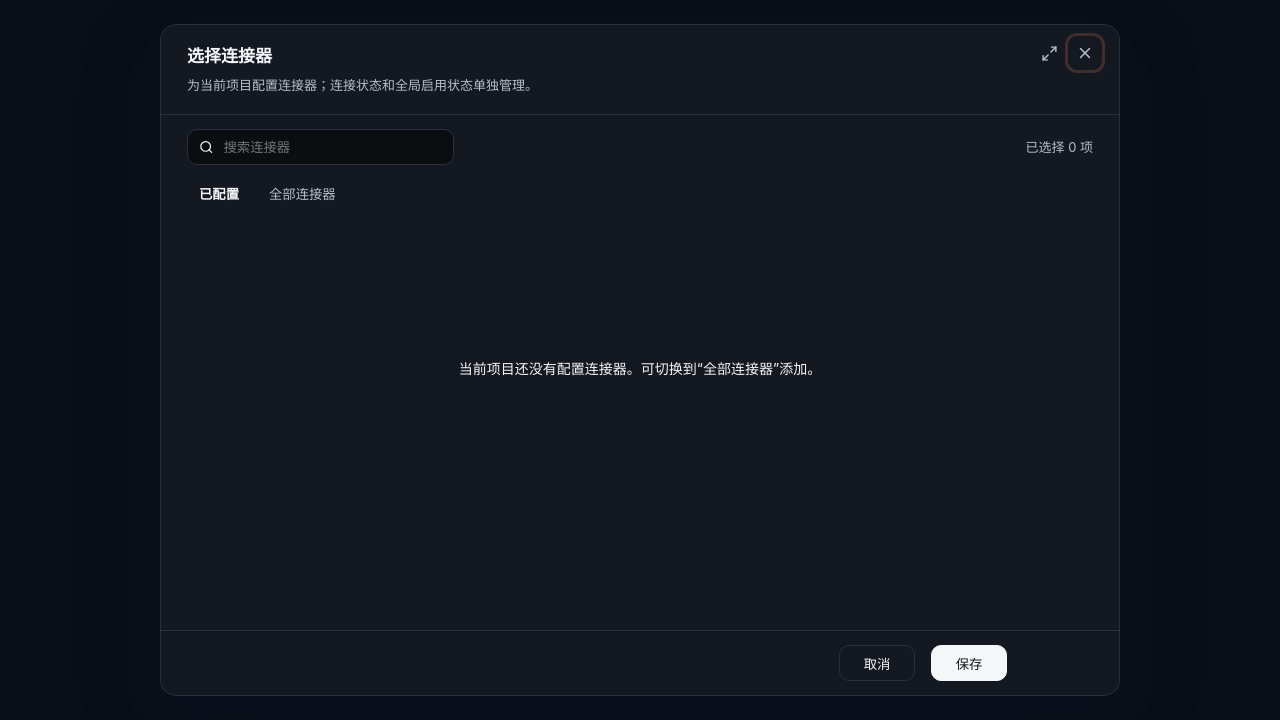
Test: ProjectCapabilityDialog › distinguishes a source with no items from a search with no matches
Expected: the text "当前项目还没有配置连接器。可切换到“全部连接器”添加。" is shown, [459,360,821,377]
Type "github" into the search field with placeholder "搜索连接器" at (332, 147), box [222,130,442,164]
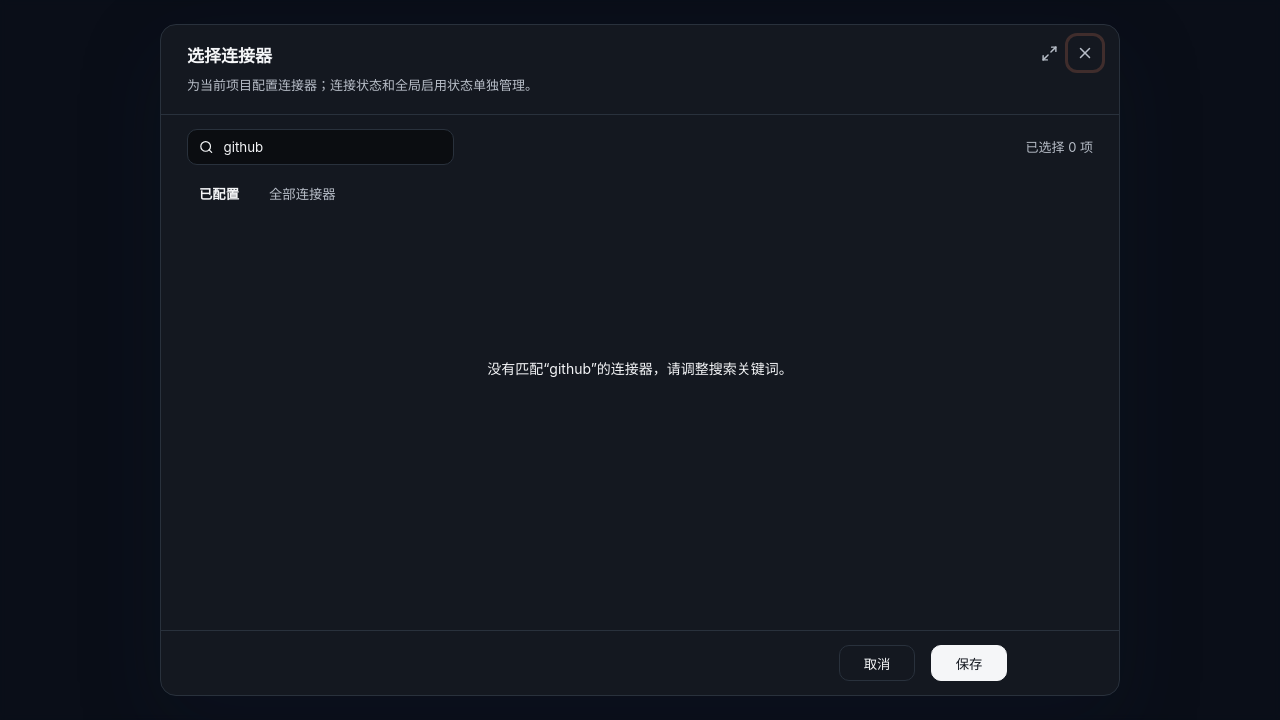
Now the text "没有匹配“github”的连接器，请调整搜索关键词。" is shown, box [487,360,793,377]
Clear the search field with placeholder "搜索连接器" at (332, 147), box [222,130,442,164]
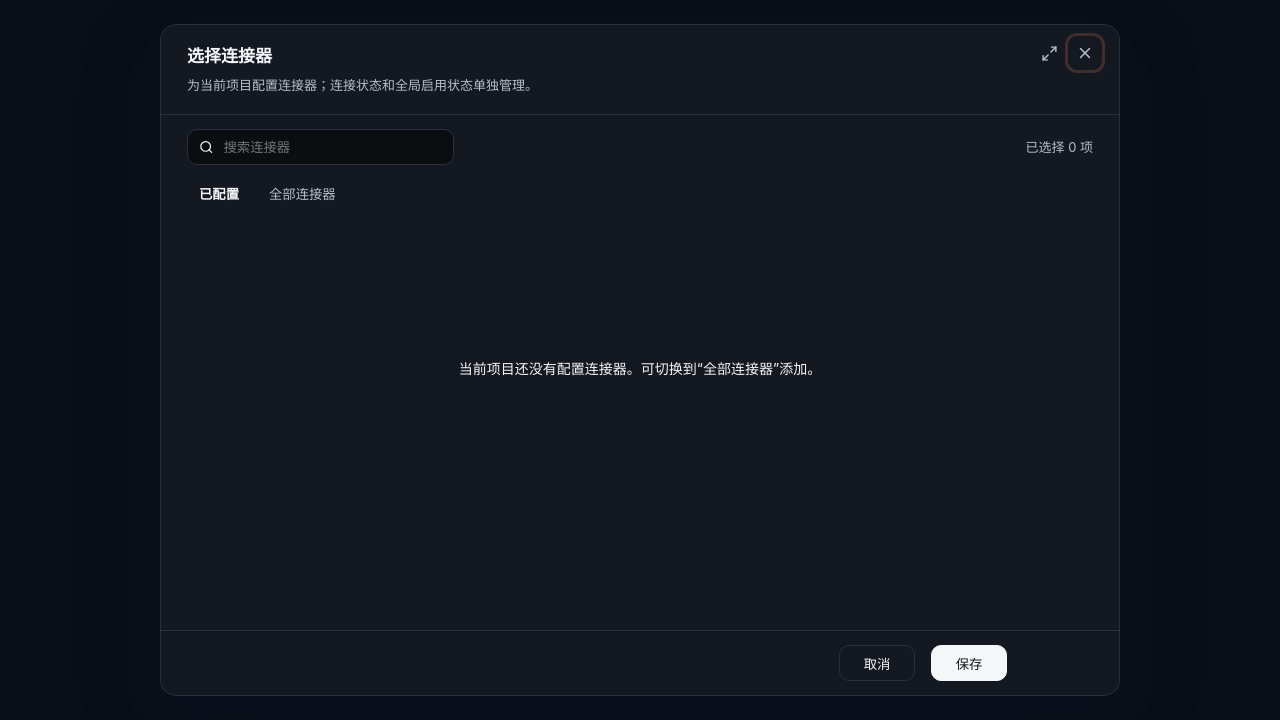
Click the tab "全部连接器" at (302, 194), box [257,179,348,209]
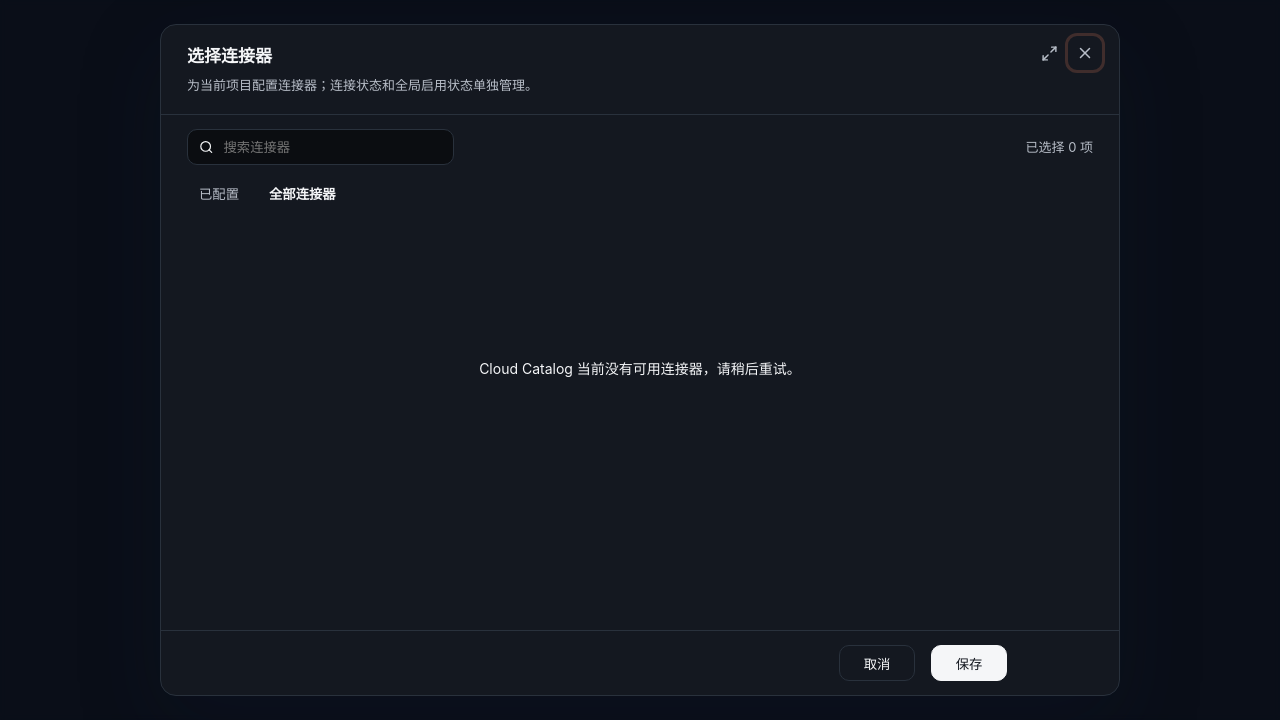
Now the text "Cloud Catalog 当前没有可用连接器，请稍后重试。" is shown, box [479,360,801,377]
